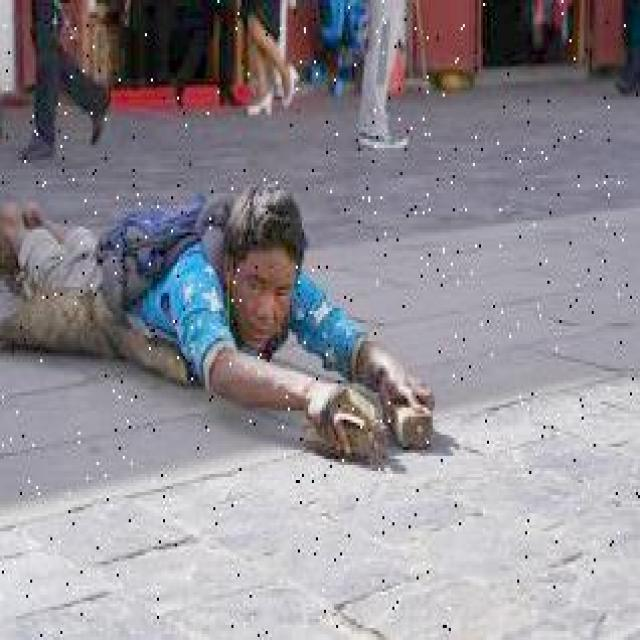fall: (11, 166, 418, 465)
